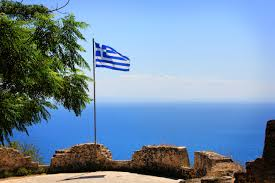Flag: (94, 41, 131, 72)
